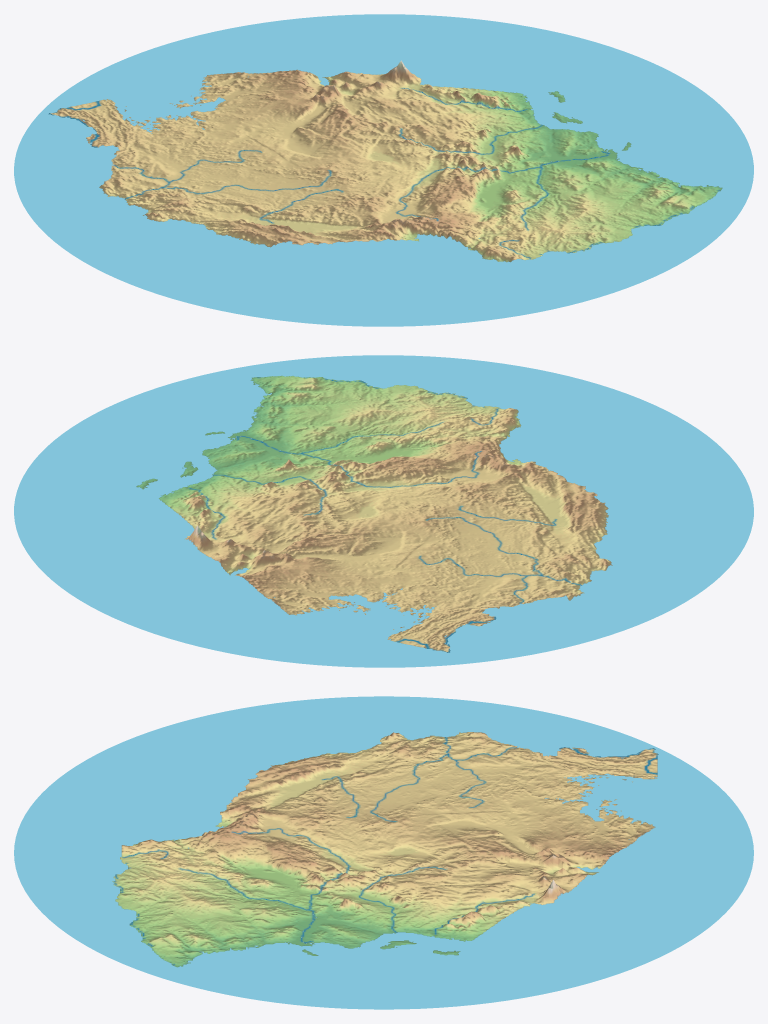
Rendered from TZA-terrain.glb.
The picture shows the model from 3 angles, top to bottom: view 1: azimuth 30°, elevation 25°; view 2: azimuth 150°, elevation 25°; view 3: azimuth 270°, elevation 25°; orthographic projection.
Parts seen in each view (by area): view 1: Relevo com hidrografia; view 2: Relevo com hidrografia; view 3: Relevo com hidrografia.
Boxes of the visible parts, x1,y1,x2,y2 form: Relevo com hidrografia: (14, 14, 753, 326); Relevo com hidrografia: (14, 355, 753, 667); Relevo com hidrografia: (14, 696, 753, 1009).
Size of the model in its own units: 2.18 by 0.0759 by 2.18.
2 materials, 1 textured.
